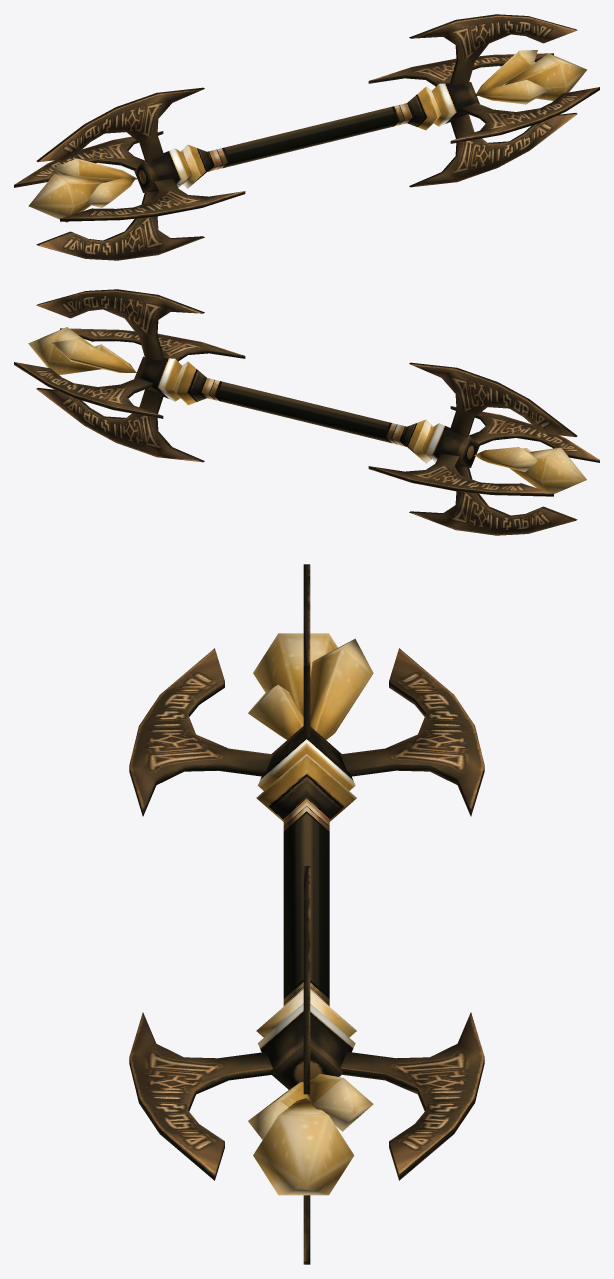
Rendered from item_weachecrystal-et01.glb.
3 views of the same model, one above another, from view 1: azimuth 30°, elevation 25°; view 2: azimuth 150°, elevation 25°; view 3: azimuth 270°, elevation 25° (orthographic). The views are drawn at different scales.
Visible parts, largest first — view 1: FlyffMesh; view 2: FlyffMesh; view 3: FlyffMesh.
Part boxes in pixels (bbox=[...]): FlyffMesh: bbox=[14, 14, 599, 260]; FlyffMesh: bbox=[14, 289, 599, 535]; FlyffMesh: bbox=[129, 564, 484, 1264].
Bounding box in the file's own units: 1.4 × 0.3848 × 0.3848.
1 material, 1 textured.
